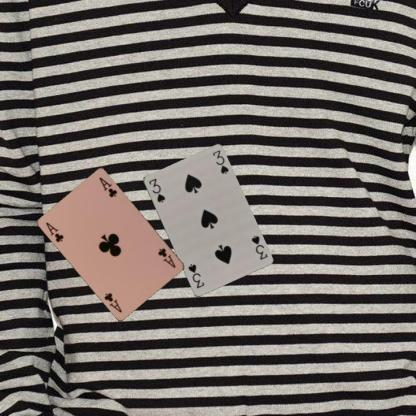3s: (146, 176, 166, 204), (248, 233, 268, 261)
Ac: (156, 246, 178, 269), (44, 220, 66, 243)
